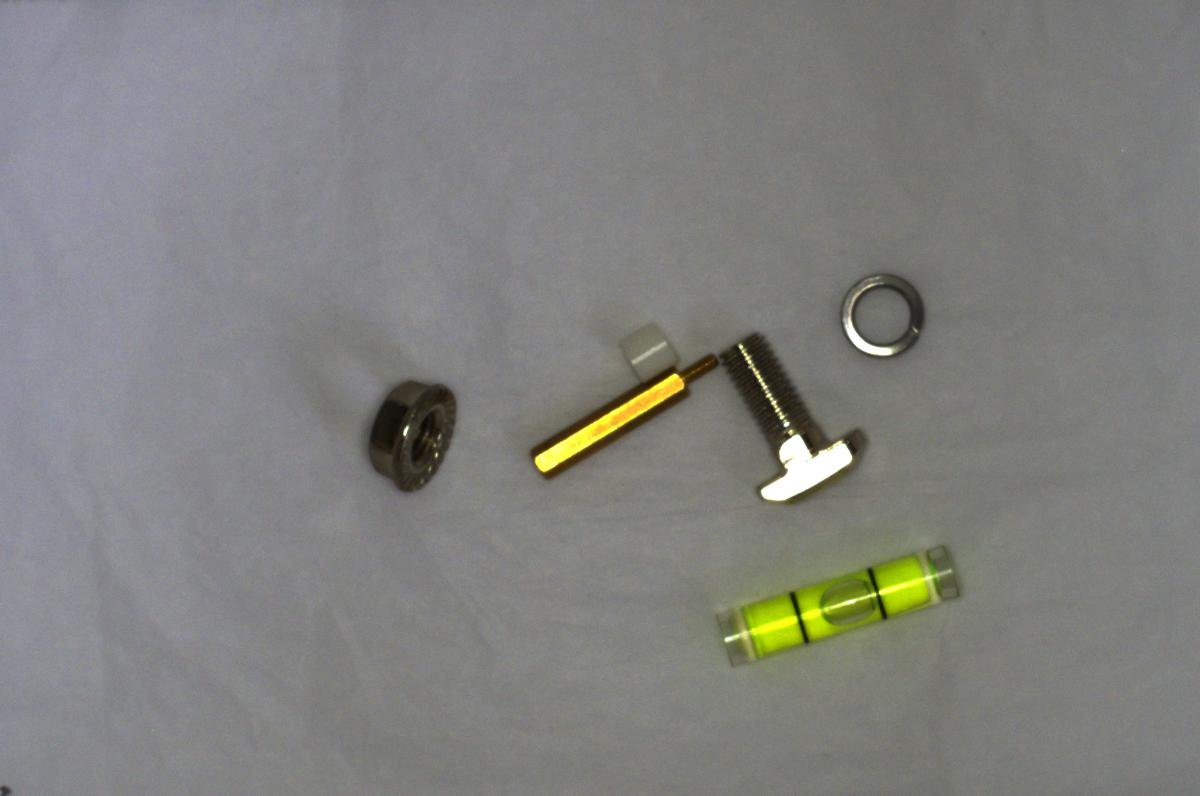Flange nut: (358, 372, 465, 493)
Hexagon pillar: (528, 335, 717, 482)
Horizontal bubble: (711, 534, 960, 669)
Plastic cushion pillar: (611, 318, 681, 375)
Spring washer: (825, 261, 927, 365)
T-shaped screw: (717, 322, 874, 507)
